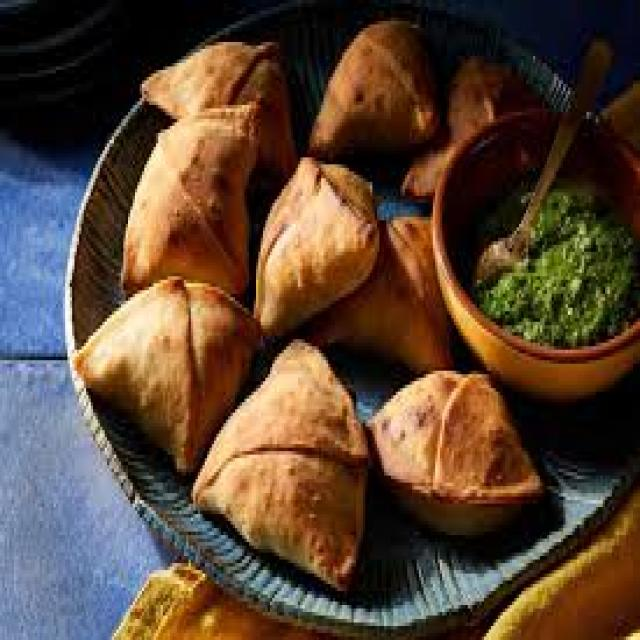SAMOSA: (193, 339, 368, 588), (74, 280, 258, 469), (368, 371, 542, 528), (123, 105, 261, 290), (305, 217, 449, 371), (254, 157, 377, 332), (142, 42, 296, 171), (307, 21, 438, 154), (405, 59, 535, 192)
